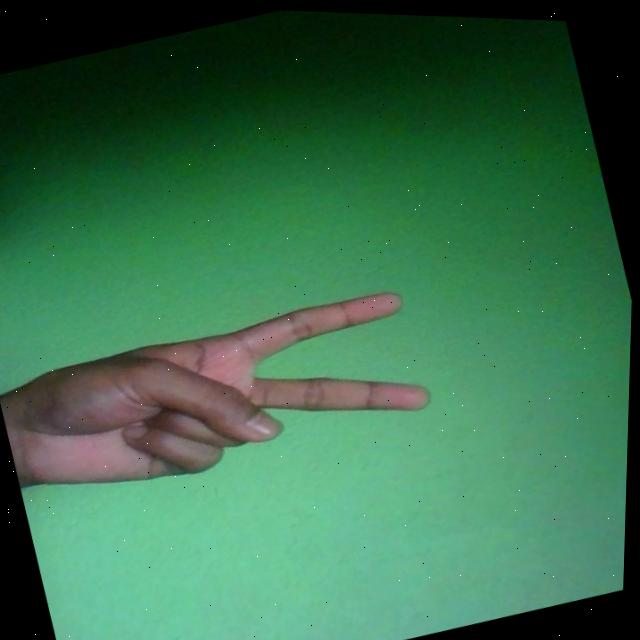Peace: (0, 268, 441, 522)
